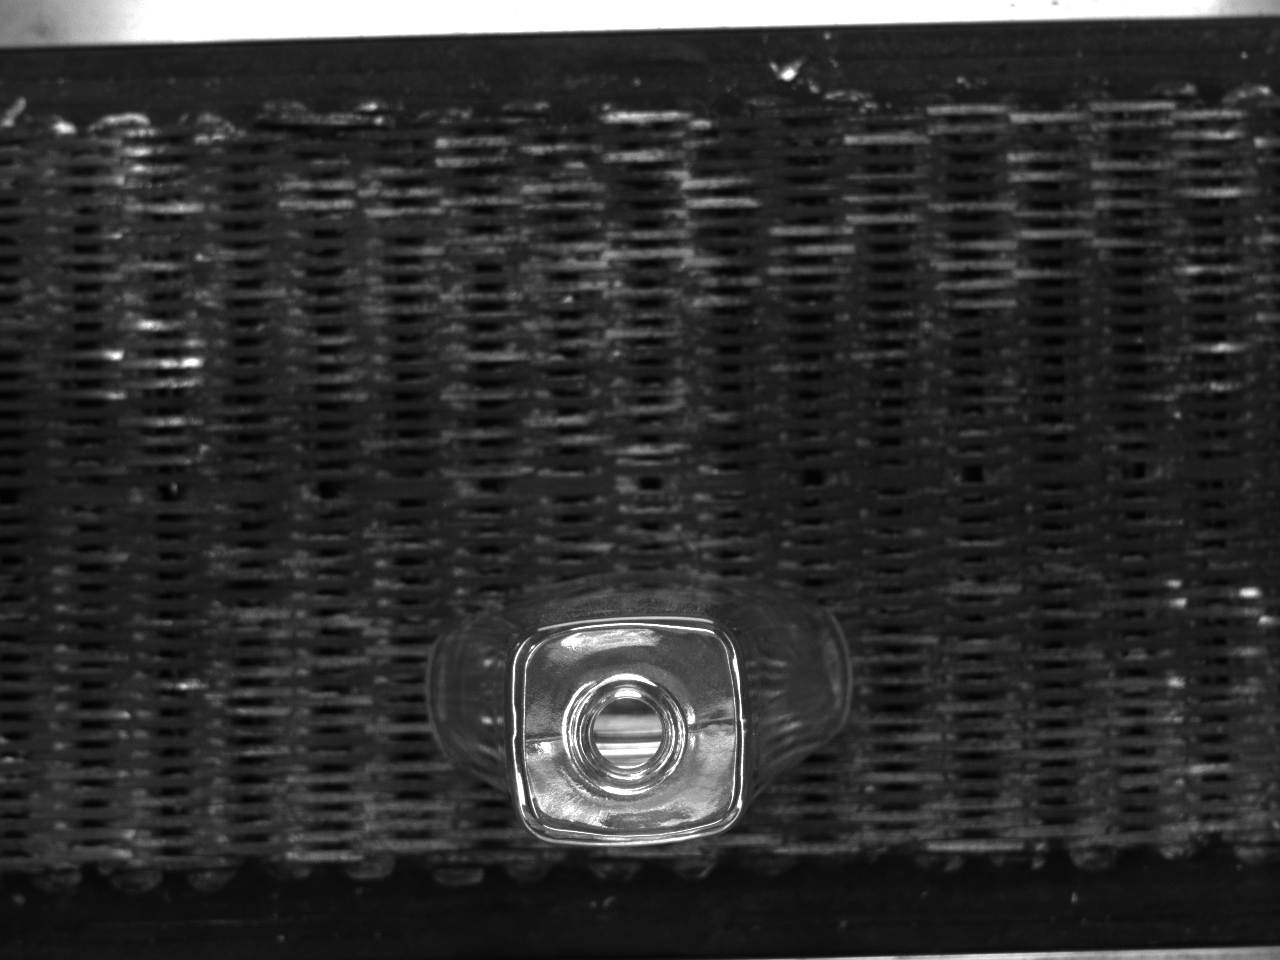bottleneck: (565, 673, 687, 796)
